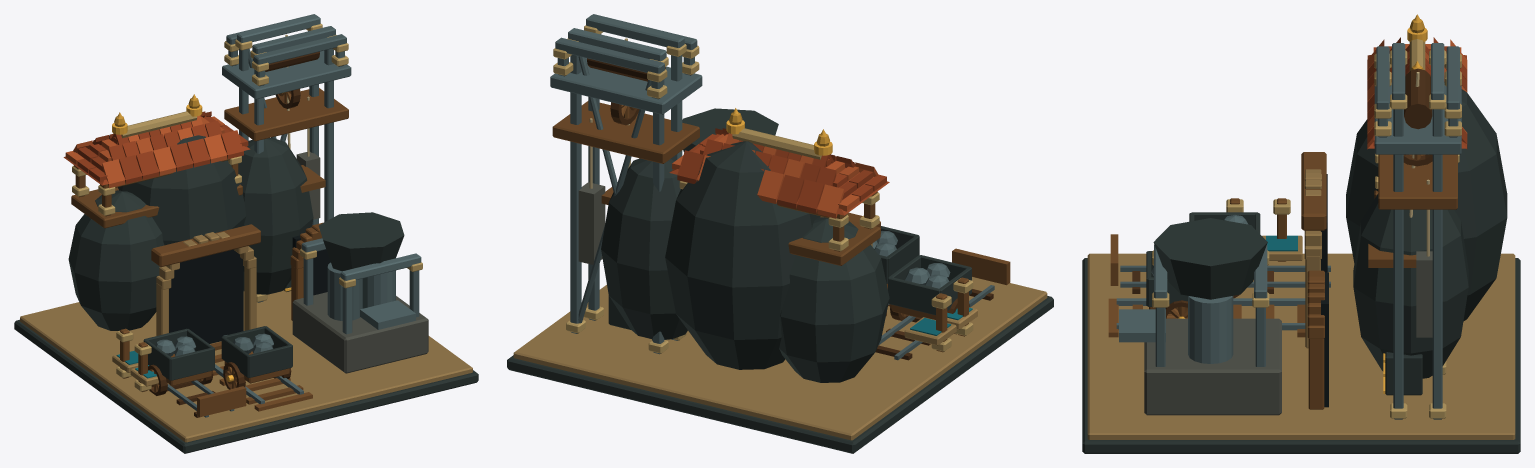
3 views of the same model, side by side, from view 1: azimuth 30°, elevation 25°; view 2: azimuth 150°, elevation 25°; view 3: azimuth 270°, elevation 25° (orthographic). The views are drawn at different scales.
Visible parts, largest first — view 1: mine_13_structure; view 2: mine_13_structure; view 3: mine_13_structure.
Part boxes in pixels (x1=…): mine_13_structure: x1=14, y1=14, x2=478, y2=453; mine_13_structure: x1=507, y1=14, x2=1053, y2=453; mine_13_structure: x1=1082, y1=19, x2=1520, y2=453.
Bounding box in the file's own units: 5.6 × 4.91 × 5.6.
